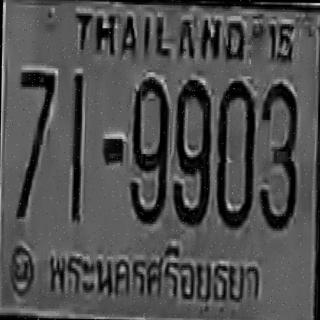N00: (215, 78, 255, 228)
N01: (69, 72, 83, 221)
N03: (258, 81, 298, 231)
N07: (15, 67, 55, 217)
N09: (128, 74, 169, 224), (172, 77, 212, 225)
P03: (42, 236, 266, 316)
